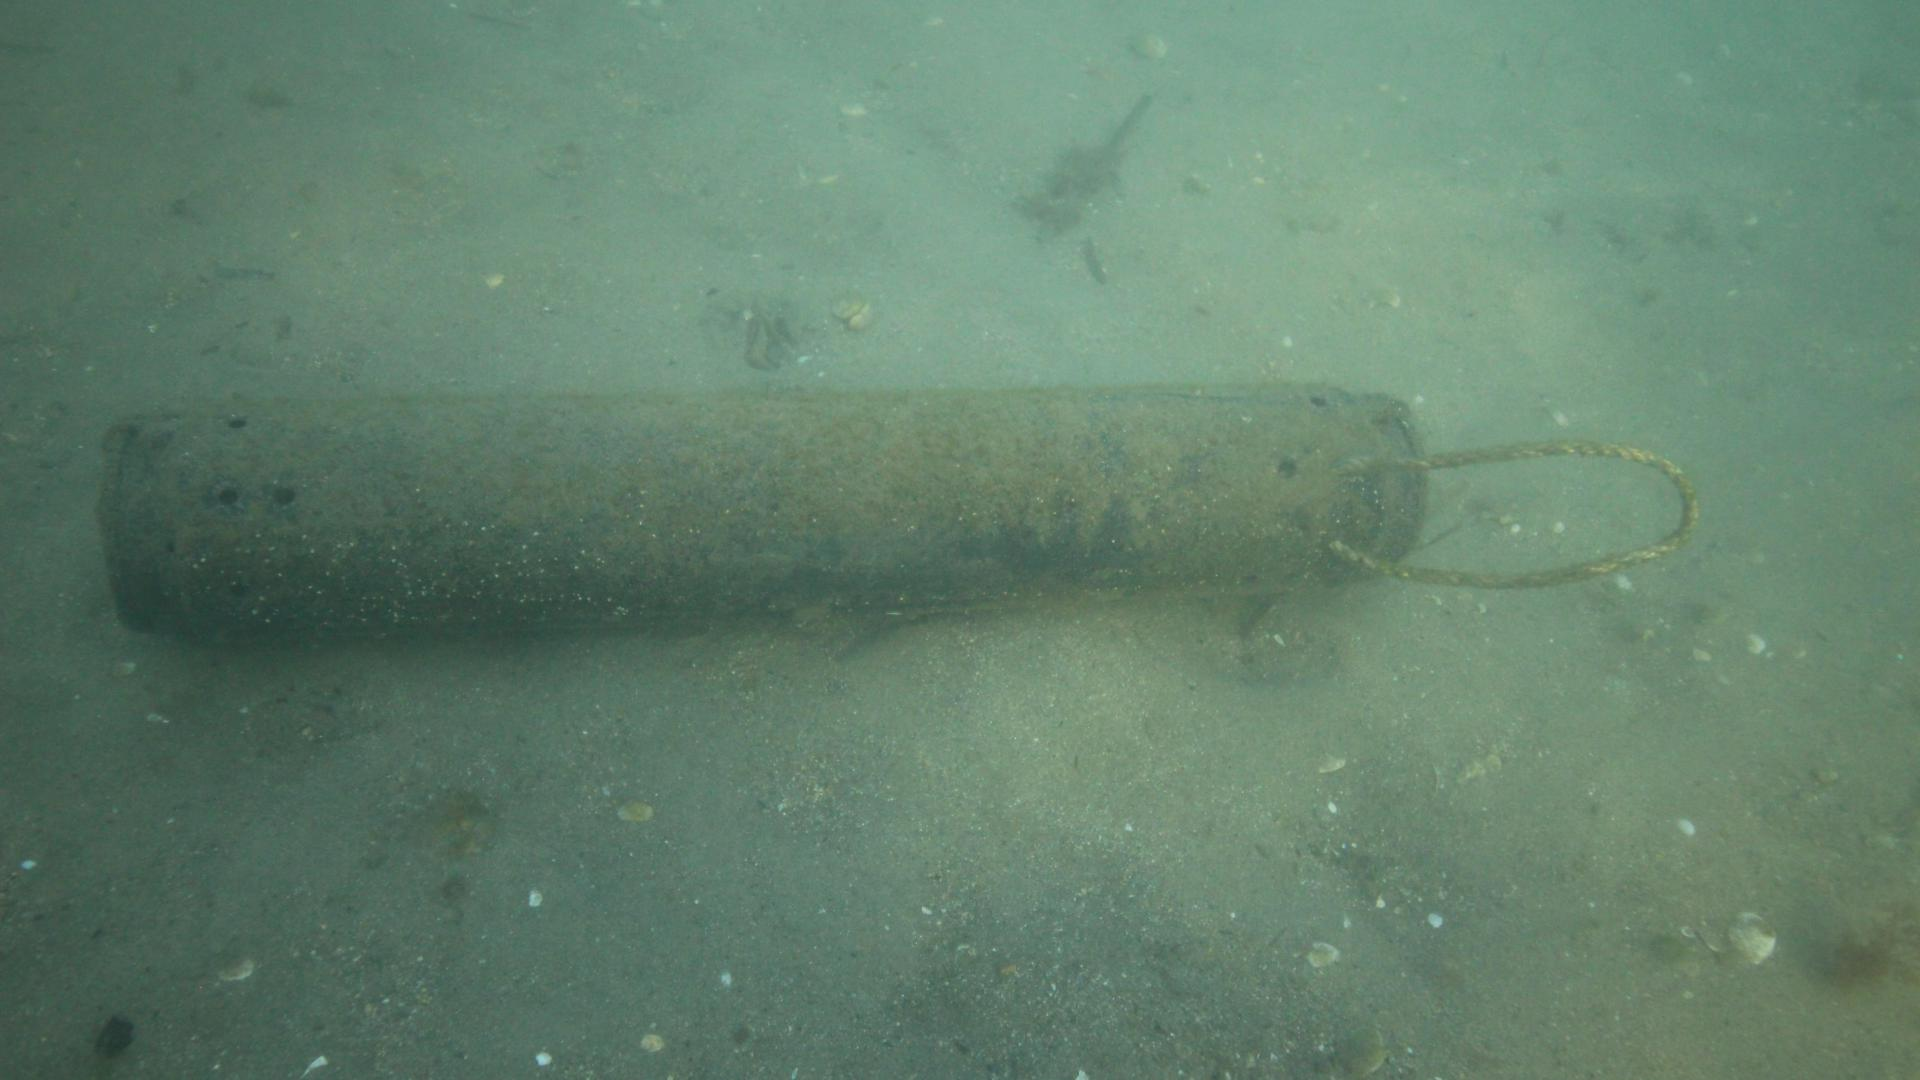eel fish trap: (96, 381, 1433, 633)
rope: (1329, 440, 1697, 585)
